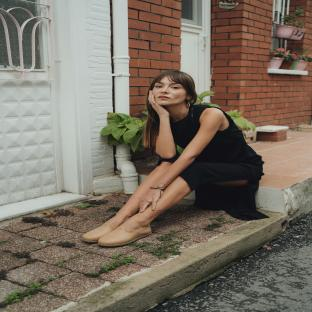Human: (82, 70, 269, 247)
